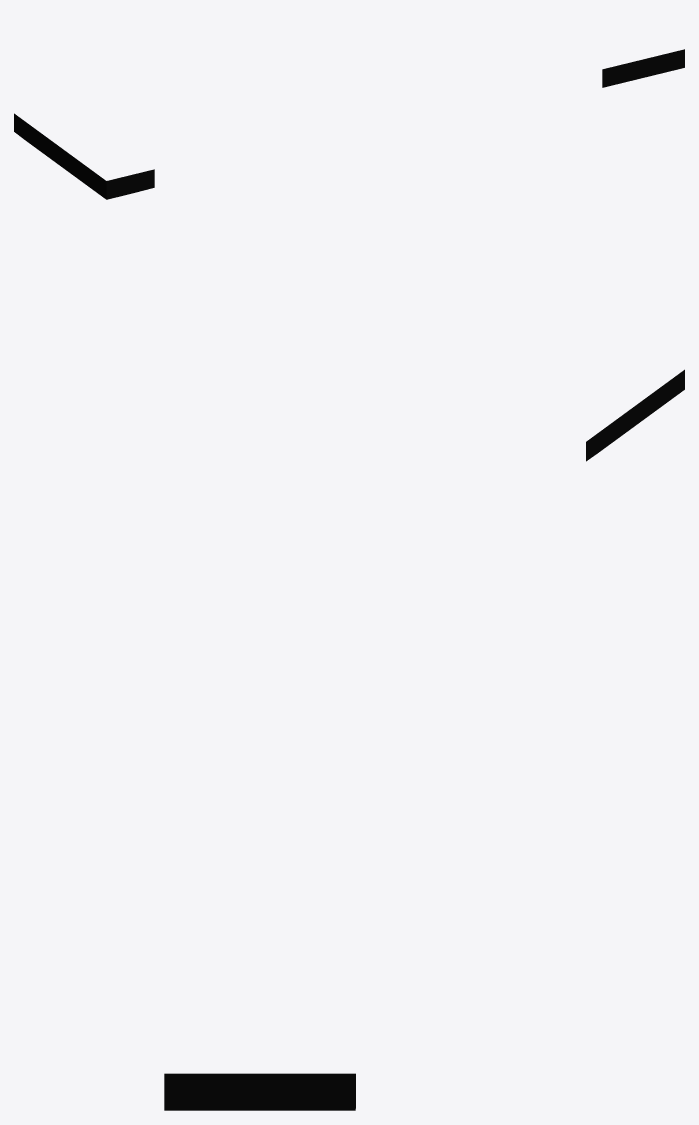
3 views of the same model, one above another, from view 1: azimuth 30°, elevation 25°; view 2: azimuth 150°, elevation 25°; view 3: azimuth 270°, elevation 25° (orthographic). The views are drawn at different scales.
Parts seen in each view (by area): view 1: Joint_0_Object_0; view 2: Joint_0_Object_0; view 3: Joint_0_Object_0.
Boxes of the visible parts, x1,y1,x2,y2 form: Joint_0_Object_0: [14, 49, 684, 199]; Joint_0_Object_0: [586, 369, 684, 461]; Joint_0_Object_0: [164, 1073, 355, 1110].
Size of the model in its own units: 10000 by 460 by 2772.
Materials: 1 (1 with a texture image).
